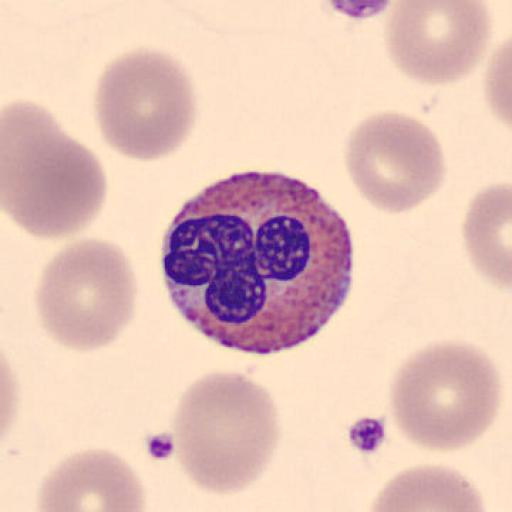RBC: (0, 98, 107, 242), (168, 370, 282, 496), (388, 337, 502, 453), (92, 44, 198, 164), (34, 236, 140, 354), (342, 108, 446, 216), (383, 0, 492, 87), (34, 444, 147, 512), (363, 462, 488, 512), (461, 179, 512, 292), (480, 36, 512, 132), (0, 345, 21, 454)
WBC: (161, 170, 357, 356)
